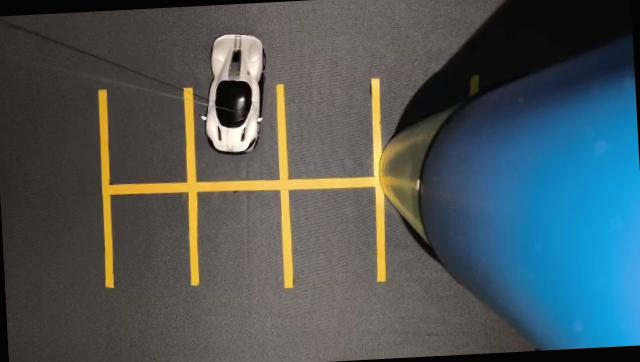toy_car: (180, 10, 296, 173)
